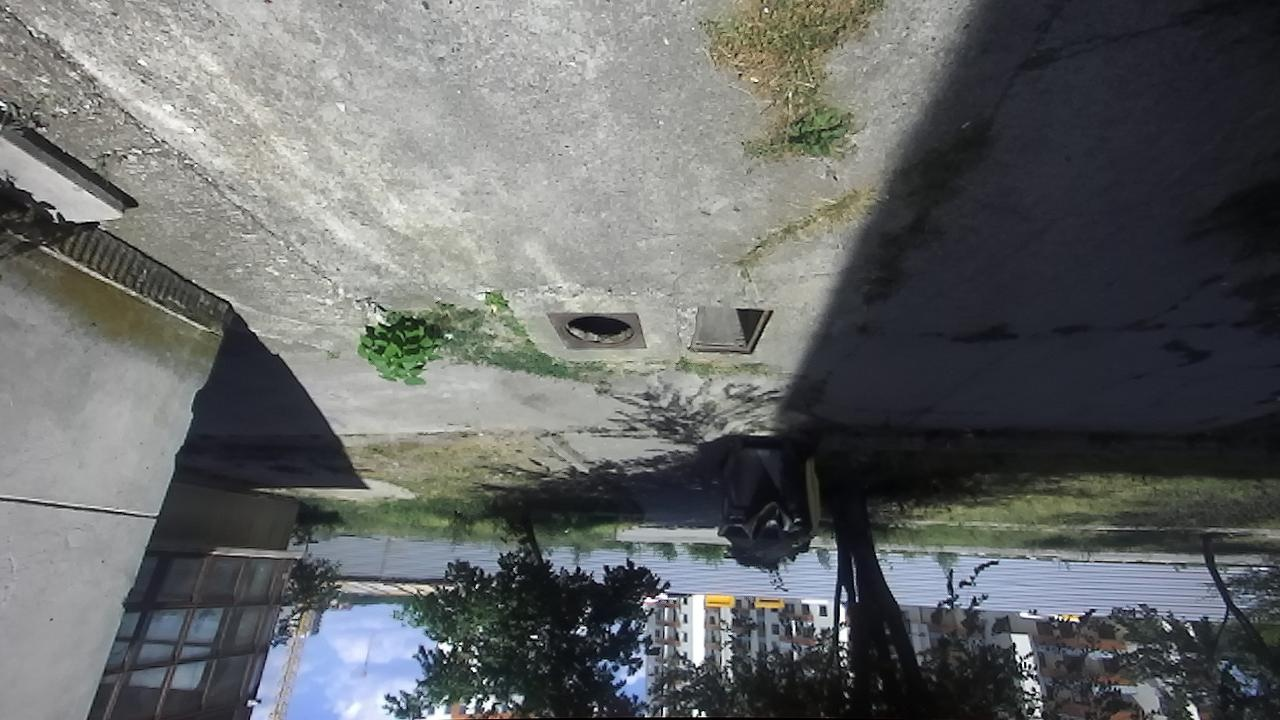drain: (685, 306, 777, 356), (559, 315, 641, 350)
